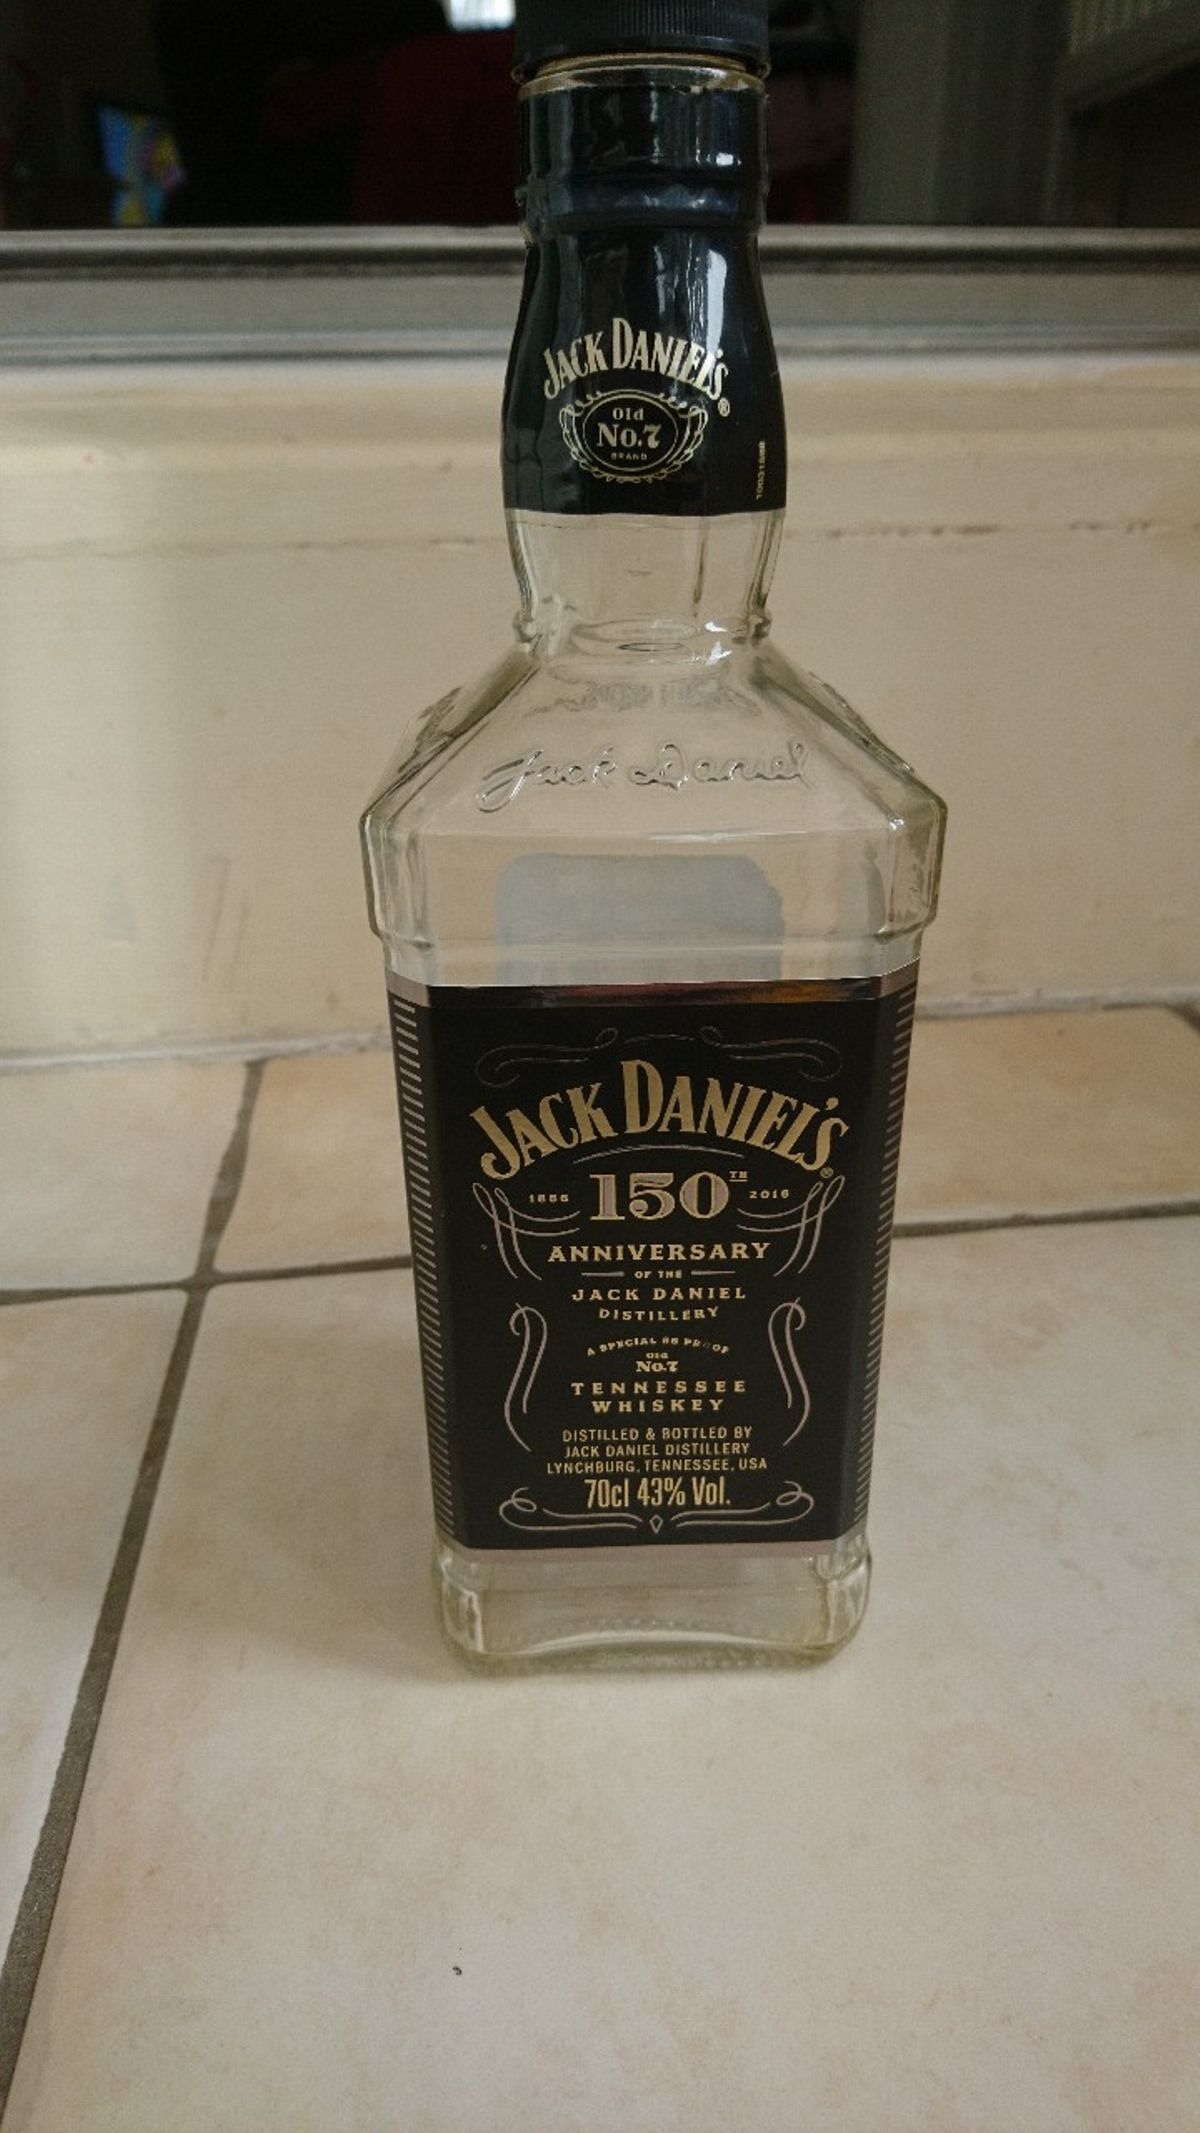Jack Daniel: (308, 1, 977, 1745)
